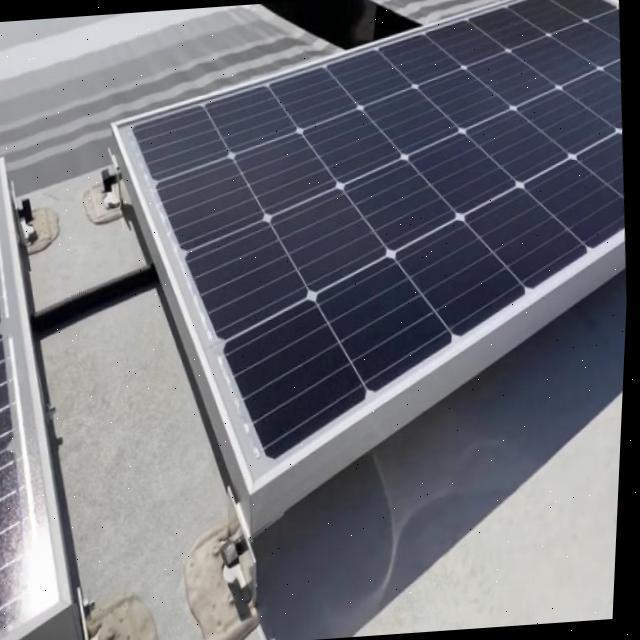Normal Solar Panel: (89, 0, 640, 504), (0, 158, 93, 640)
